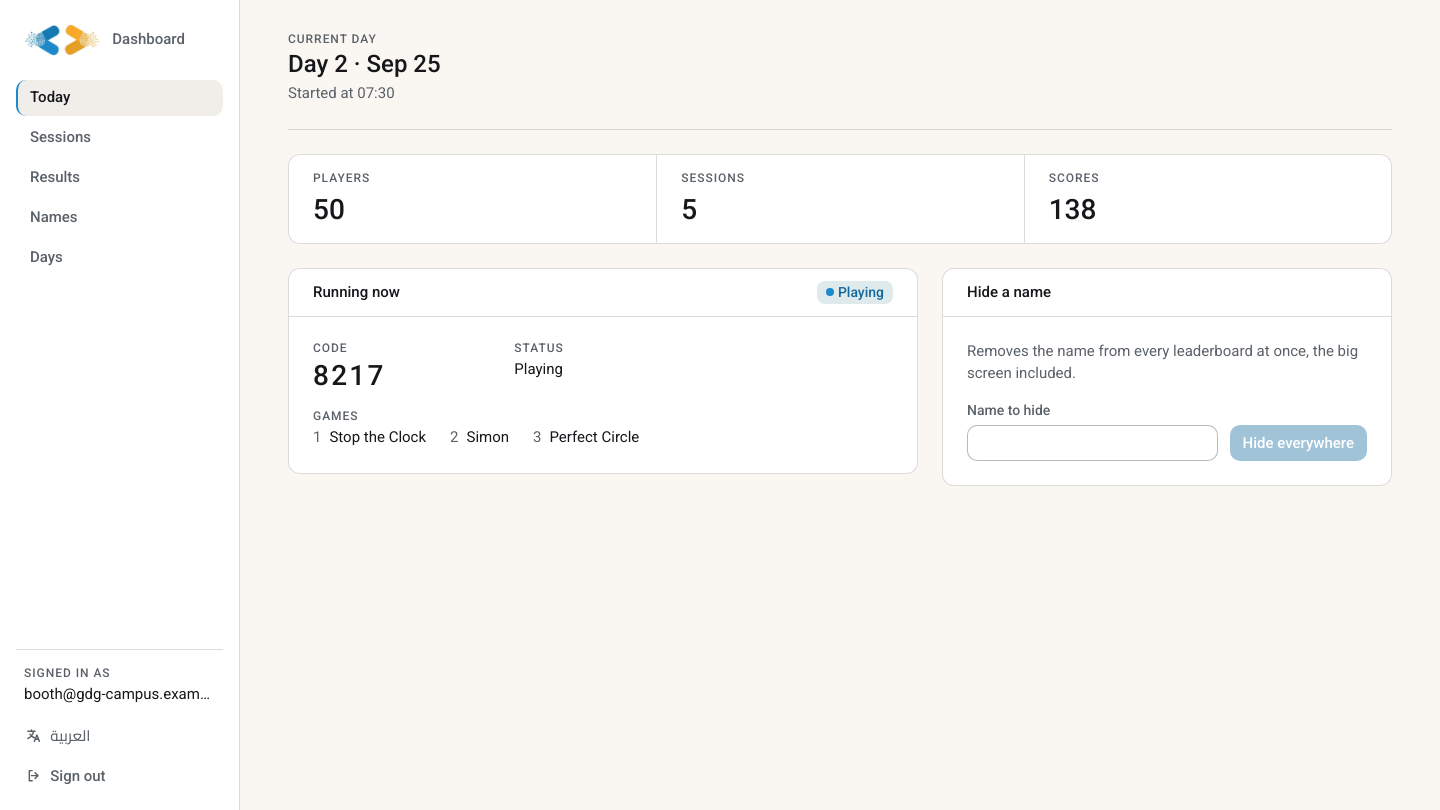
Scenario: dashboard render budget › hiding a name on Today: an unchanged reload does not re-render the page
Type "Sara" into the field with test id "hide-name-input" at (1092, 443), box left=967, top=425, right=1218, bottom=461
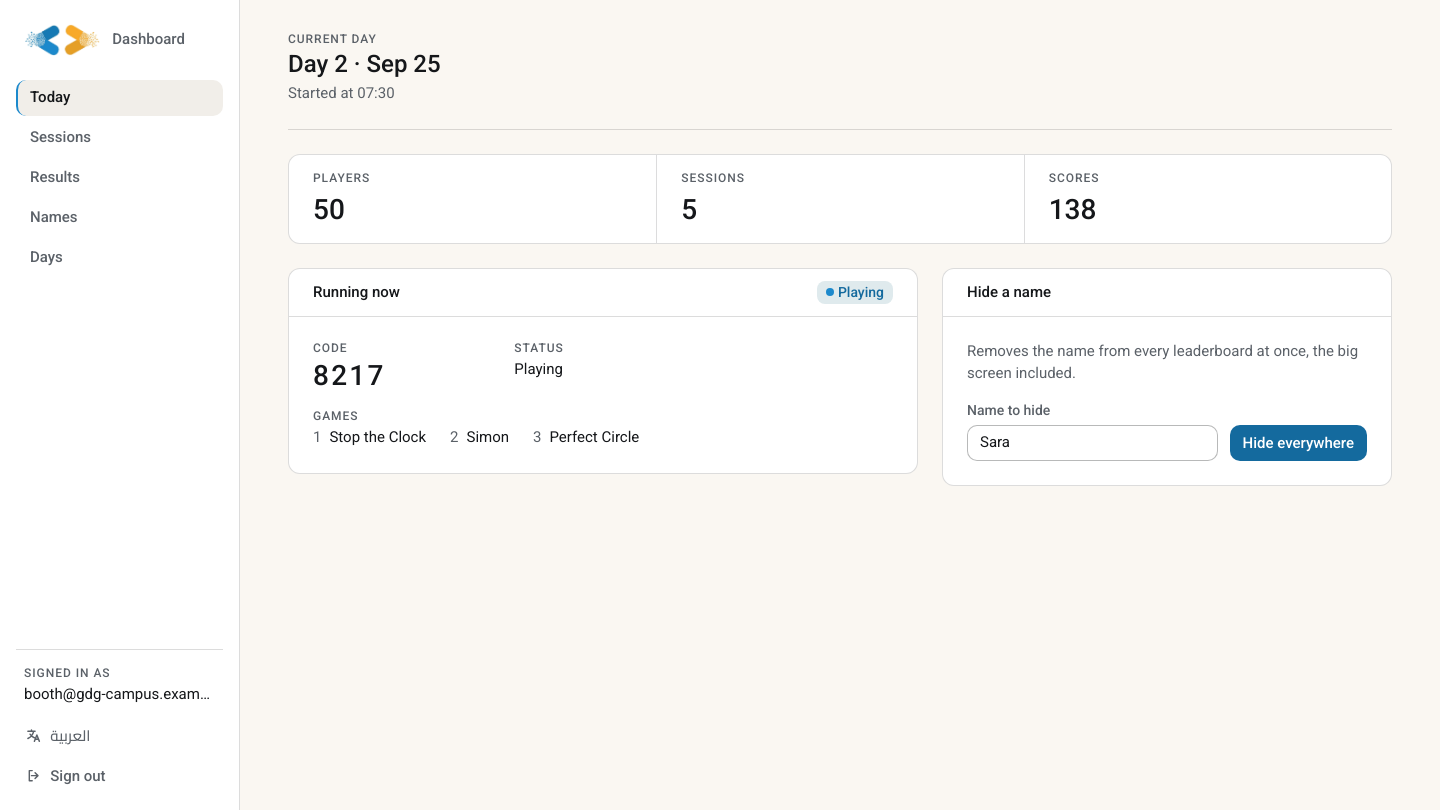
Click the button with test id "hide-name-preview-btn" at (1298, 443), box left=1230, top=425, right=1367, bottom=461
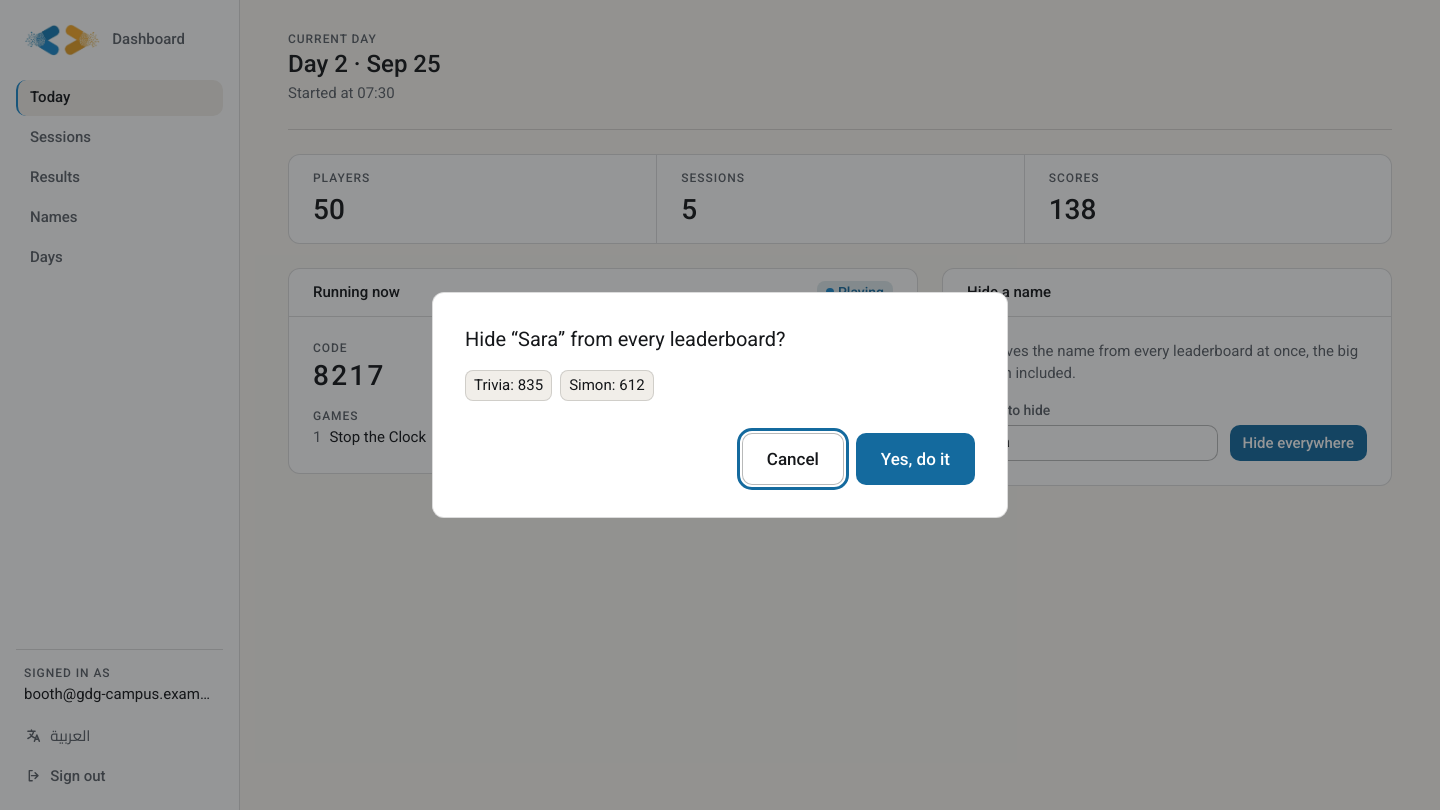
Click the button with test id "confirm-yes" at (915, 459), box left=856, top=433, right=975, bottom=485
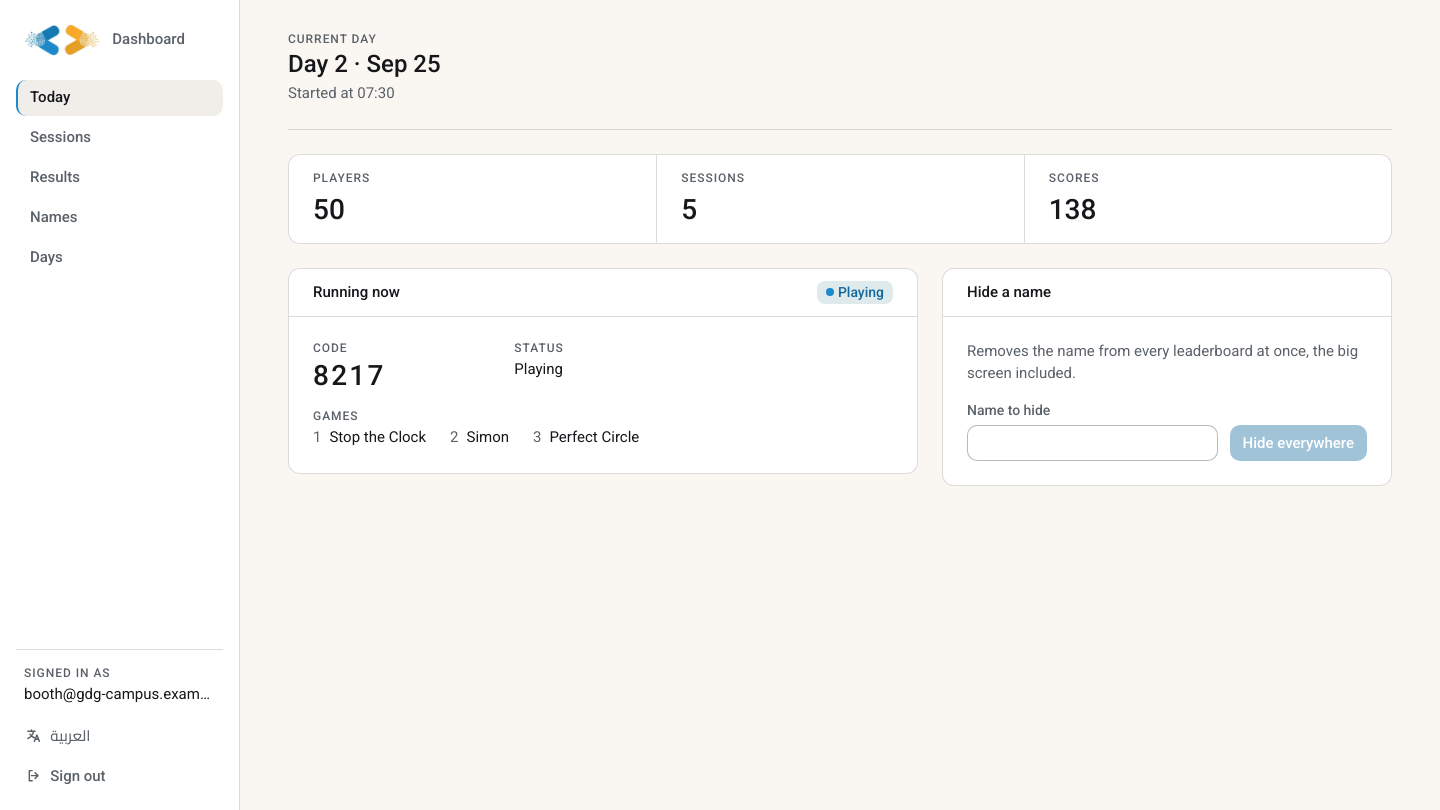
Now the dialog with test id "confirm-dialog" is gone
